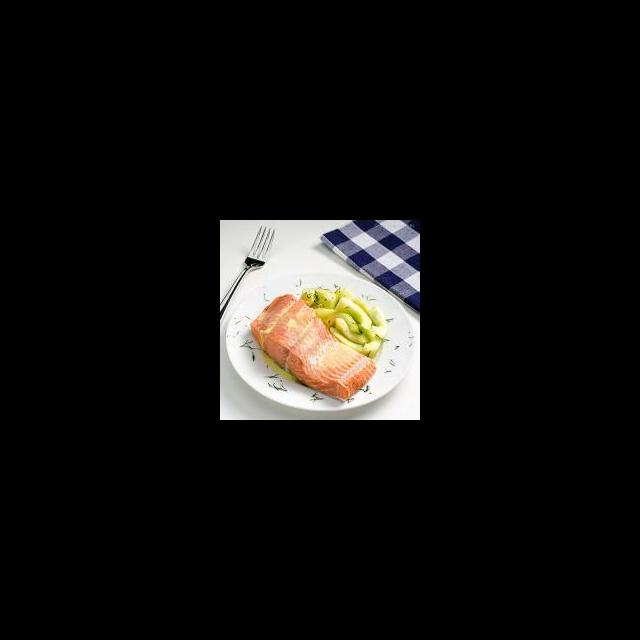ca hoi: (250, 294, 378, 402)
